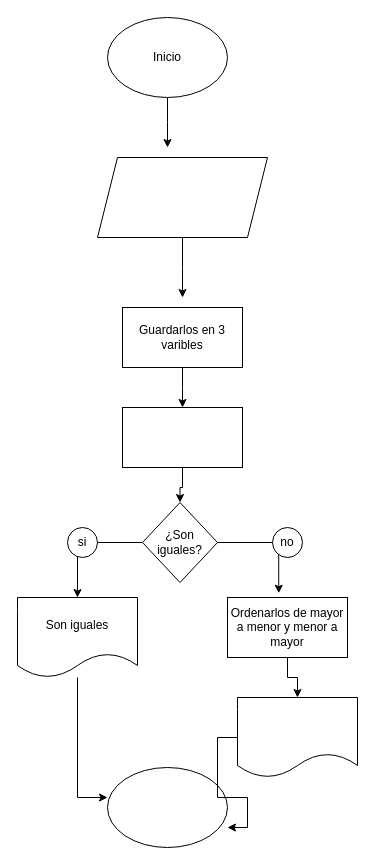
This 375x865 diagram has some shape labels left out. The centre of each missing label's shape, as x and y in pixels:
Fin: (167,807)
Mostrar en consola: (297,737)
n1=== n2 && n1== n3: (182,437)
Tres datos: (182,197)
